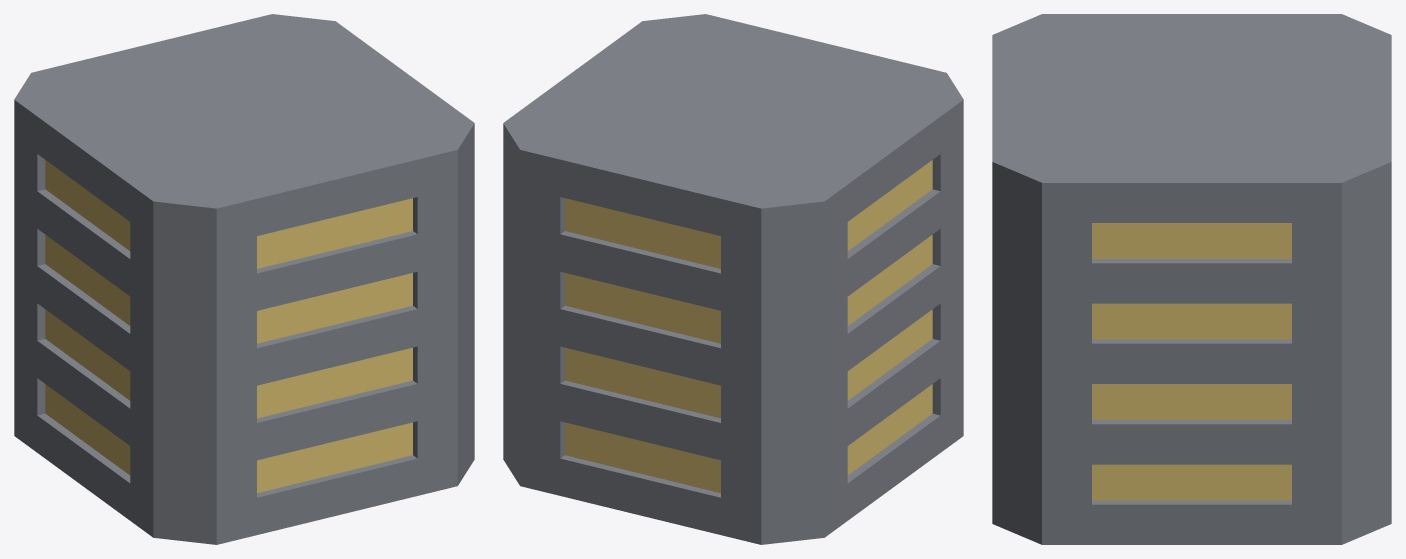
File: Light.fbx
The picture shows the model from 3 angles, left to right: view 1: azimuth 30°, elevation 25°; view 2: azimuth 150°, elevation 25°; view 3: azimuth 270°, elevation 25°; orthographic projection. The views are drawn at different scales.
Visible parts, largest first — view 1: pCube1; view 2: pCube1; view 3: pCube1.
Boxes of the visible parts, left/top/right/bottom form: pCube1: left=14, top=14, right=474, bottom=544; pCube1: left=503, top=14, right=963, bottom=544; pCube1: left=992, top=14, right=1391, bottom=544.
Size of the model in its own units: 1 by 1 by 1.
